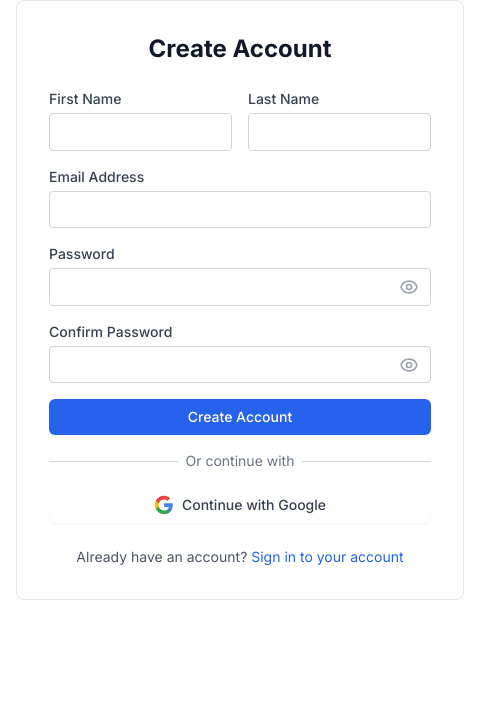
RegistrationForm › should validate password confirmation match
Note: Enter mismatched passwords
Type "password123" into the password field labelled "Password" at [240, 287], box [49,268,431,306]
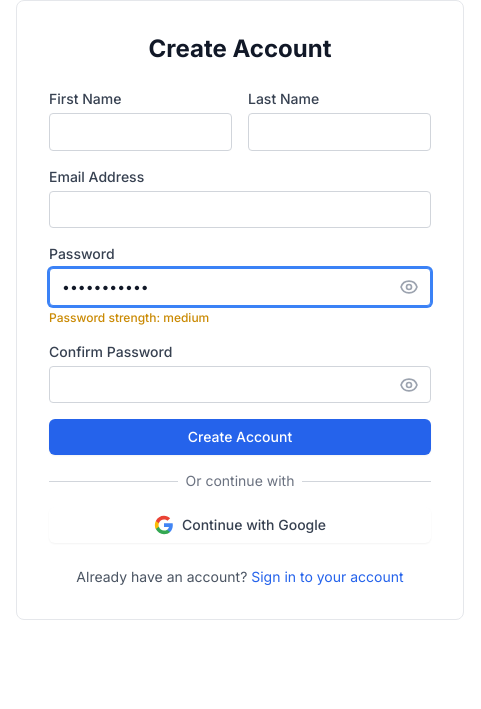
Type "different123" into the password field labelled "Confirm Password" at [240, 385], box [49,366,431,403]
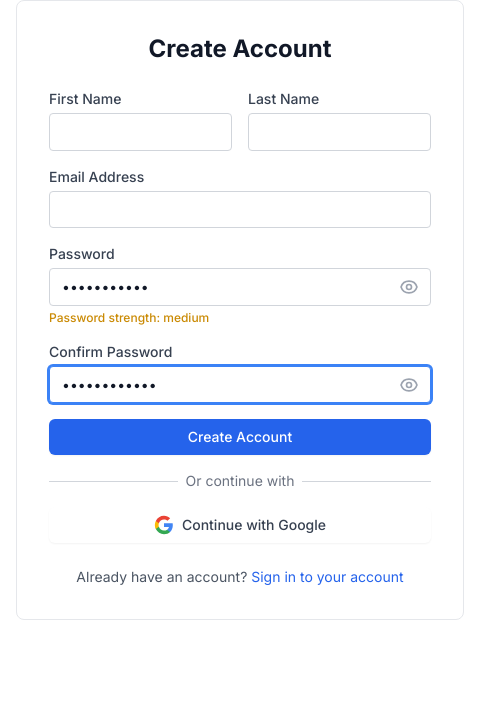
Click the button "Create Account" at [240, 437], box [49,419,431,455]
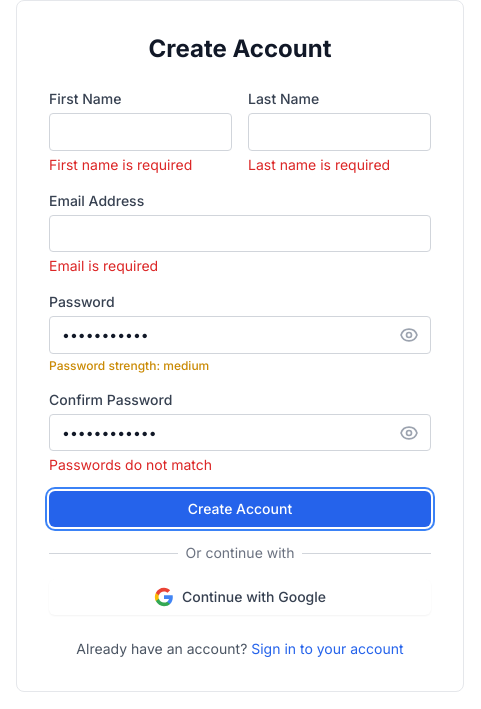
expect the text "Passwords do not match" is shown: met, box [49,456,212,473]
